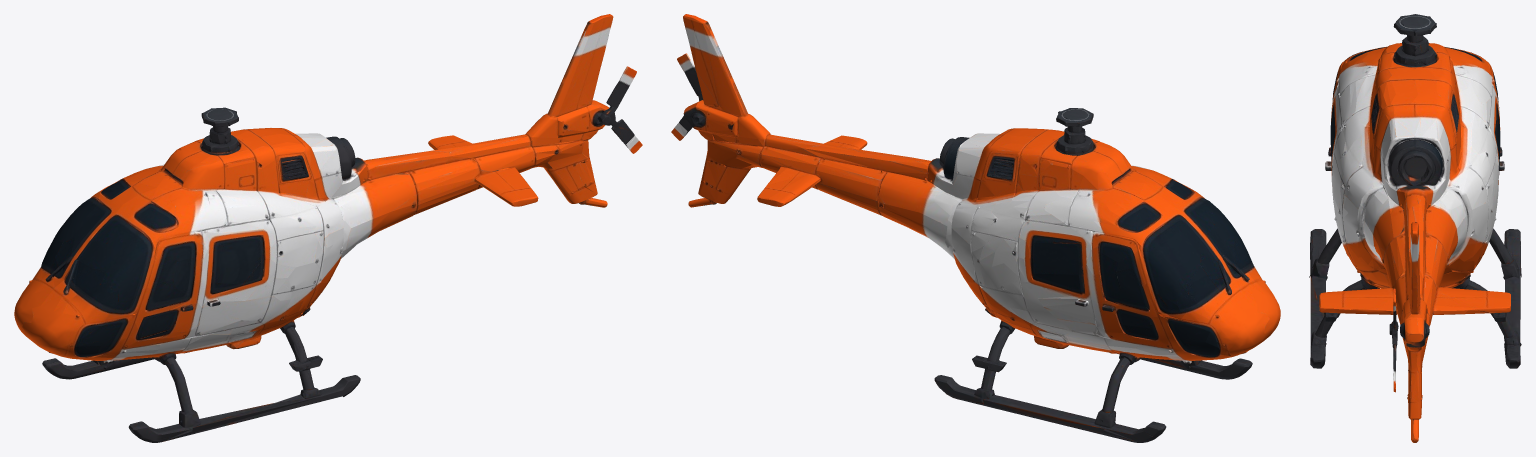
The model's file is heli.glb.
The picture shows the model from 3 angles, left to right: view 1: azimuth 30°, elevation 25°; view 2: azimuth 150°, elevation 25°; view 3: azimuth 270°, elevation 25°; orthographic projection. The views are drawn at different scales.
Parts seen in each view (by area): view 1: output_unwrapped; view 2: output_unwrapped; view 3: output_unwrapped.
Part boxes in pixels (x1,y1,x2,y2): output_unwrapped: [14, 14, 642, 442]; output_unwrapped: [671, 14, 1280, 442]; output_unwrapped: [1309, 14, 1521, 442].
Size of the model in its own units: 1.9 by 0.8231 by 0.5119.
1 material, 1 textured.
